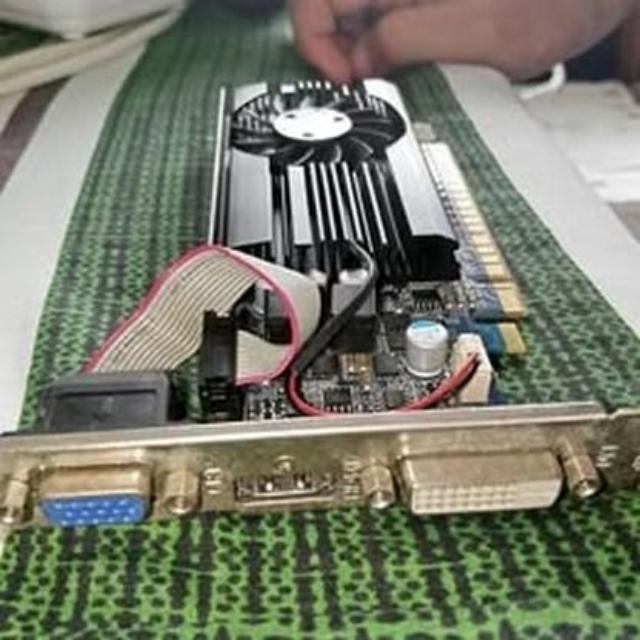GPU: (182, 63, 546, 526)
